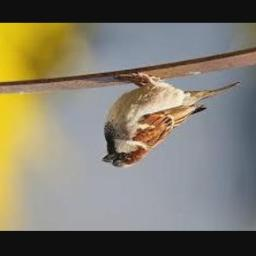Sparrow: (101, 72, 240, 168)
